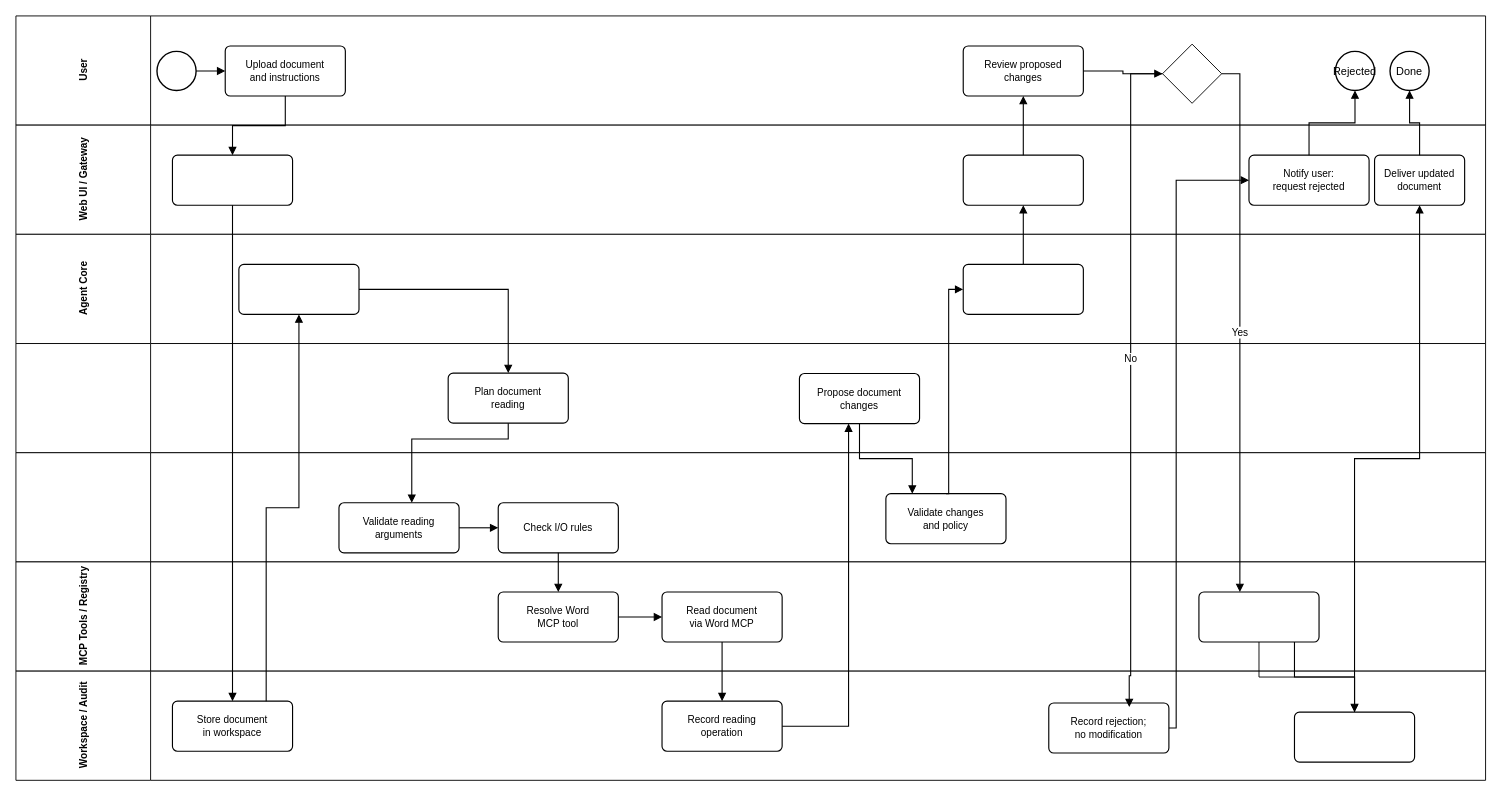
This 1502x796 diagram has some shape labels left out. Here are the shapes that lost their labels. From the top down, the box of each, then its label:
(156, 50, 196, 91): Start
(1162, 43, 1222, 103): Approve?
(171, 154, 293, 205): Receive request and file
(962, 154, 1084, 205): Present proposed changes to user
(238, 263, 359, 315): Create task and state
(962, 263, 1084, 315): Prepare original vs. proposed diff
(15, 343, 1486, 453): Local LLM
(15, 452, 1486, 562): Reliability / Policy
(1198, 591, 1319, 642): Edit document and save new version
(1293, 711, 1415, 762): Record execution and file version
